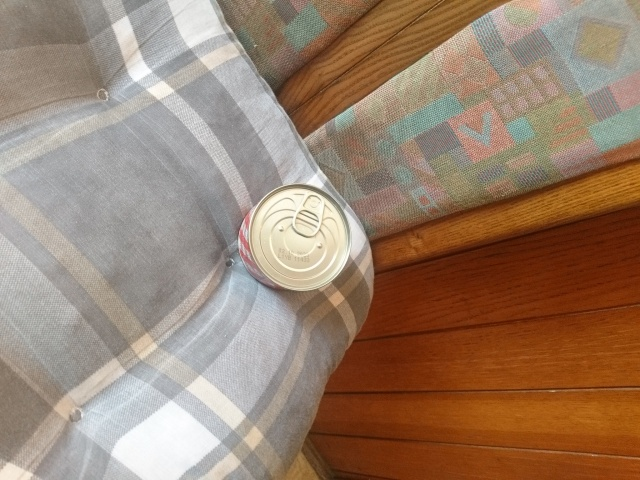Podravka Luncheon Meat 150g: (234, 180, 355, 295)
